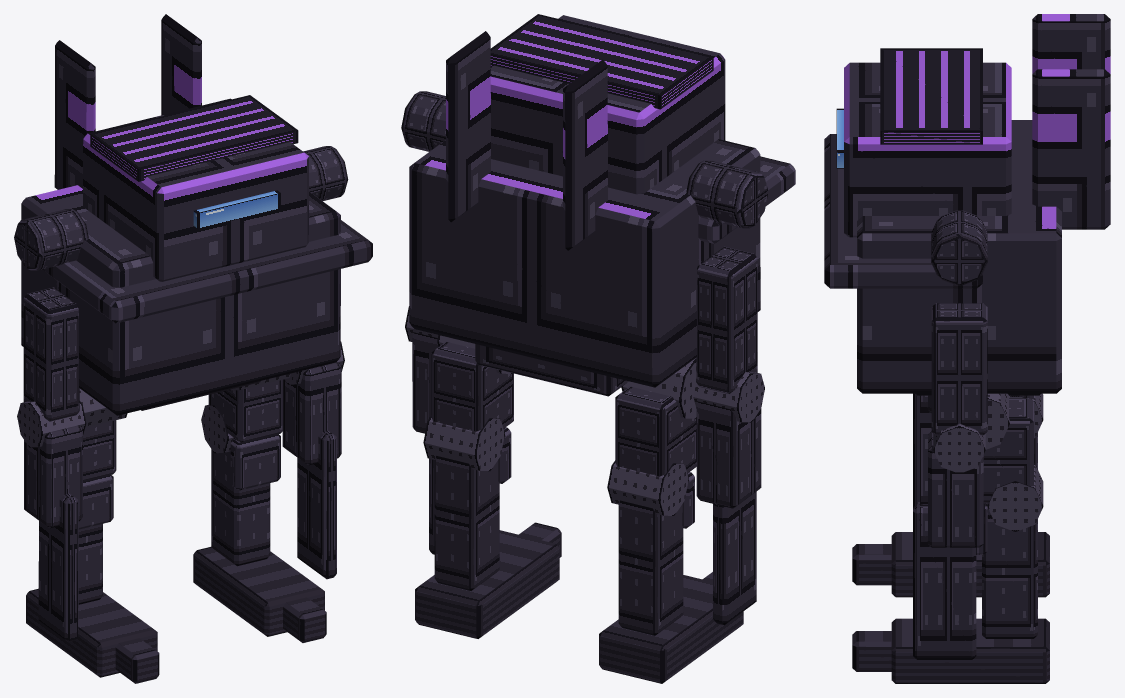
File: mech_necromancer.glb
The picture shows the model from 3 angles, left to right: view 1: azimuth 30°, elevation 25°; view 2: azimuth 150°, elevation 25°; view 3: azimuth 270°, elevation 25°; orthographic projection. The views are drawn at different scales.
Visible parts, largest first — view 1: Torso-head, ph_glow, R_forearm, L_forearm, L_foot, L_shin, R_upper_arm, R_foot, R_shoulder, R_shin, L_thigh, L_shoulder (+5 smaller); view 2: Torso-head, ph_glow, R_forearm, L_foot, L_shin, R_shin, R_upper_arm, R_foot, R_thigh, L_thigh, R_shoulder, L_back_knee (+6 smaller); view 3: Torso-head, L_forearm, ph_glow, L_foot, L_upper_arm, L_shin, R_foot, L_shoulder, L_thigh, L_back_knee, L_elbow, R_forearm (+2 smaller).
Part boxes in pixels (x1,y1,x2,y2): Torso-head: (21,14,372,415); ph_glow: (90,95,298,181); R_forearm: (24,425,82,642); L_forearm: (282,362,341,579); L_foot: (193,547,326,642); L_shin: (211,434,280,566); R_upper_arm: (23,287,79,421); R_foot: (26,588,159,683); R_shoulder: (14,209,88,270); R_shin: (78,475,113,604); L_thigh: (208,379,283,443); L_shoulder: (303,146,348,200); Torso-head: (409,15,795,387); ph_glow: (490,14,713,109); R_forearm: (696,401,761,625); L_foot: (415,522,561,638); L_shin: (434,427,511,590); R_shin: (618,472,694,635); R_upper_arm: (696,246,757,393); R_foot: (599,572,743,683); R_thigh: (615,386,696,476); L_thigh: (431,342,513,431); R_shoulder: (686,160,768,228); L_back_knee: (423,415,504,471); Torso-head: (824,14,1110,393); L_forearm: (913,431,983,659); ph_glow: (880,48,982,144); L_foot: (852,618,1049,683); L_upper_arm: (931,303,987,435); L_shin: (976,502,1037,638); R_foot: (852,532,1049,597); L_shoulder: (931,210,987,285); L_thigh: (983,398,1033,502); L_back_knee: (987,463,1043,531); L_elbow: (933,423,985,473); R_forearm: (913,393,931,507).
Size of the model in its own units: 12.24 by 20.79 by 9.21.
1 material, 1 textured.
